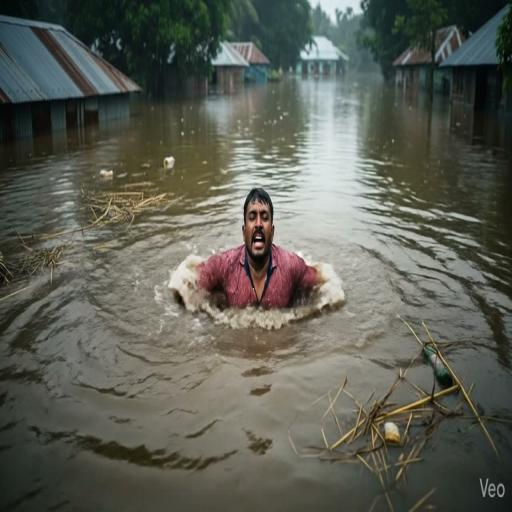human: (197, 172, 346, 338)
